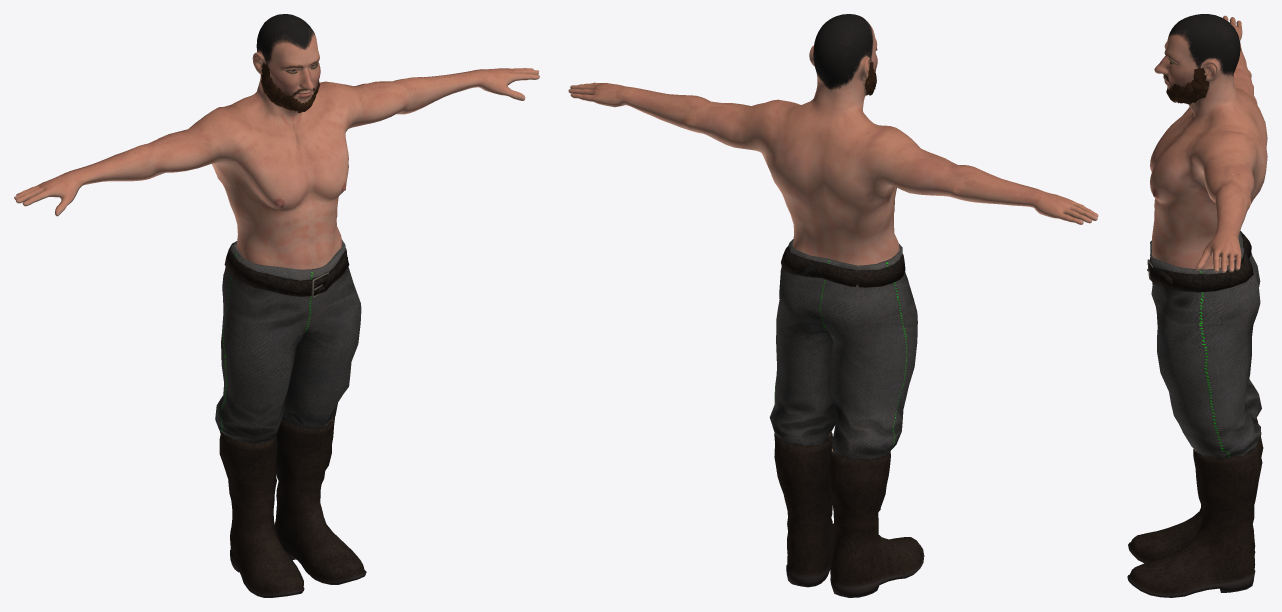
3 views of the same model, side by side, from view 1: azimuth 30°, elevation 25°; view 2: azimuth 150°, elevation 25°; view 3: azimuth 270°, elevation 25° (orthographic).
Visible parts, largest first — view 1: Body, Bottoms, Shoes, Beards; view 2: Body, Bottoms, Shoes; view 3: Body, Bottoms, Shoes, Beards.
Boxes of the visible parts, <box> form: Body: <box>14,14,539,269</box>; Bottoms: <box>215,240,361,443</box>; Shoes: <box>219,417,366,597</box>; Beards: <box>260,62,319,113</box>; Body: <box>568,14,1098,265</box>; Bottoms: <box>769,239,917,459</box>; Shoes: <box>774,432,924,597</box>; Body: <box>1150,14,1267,272</box>; Bottoms: <box>1147,231,1261,458</box>; Shoes: <box>1127,418,1263,597</box>; Beards: <box>1166,67,1209,104</box>.
Bounding box in the file's own units: 174 × 175 × 40.
4 materials, 4 textured.
